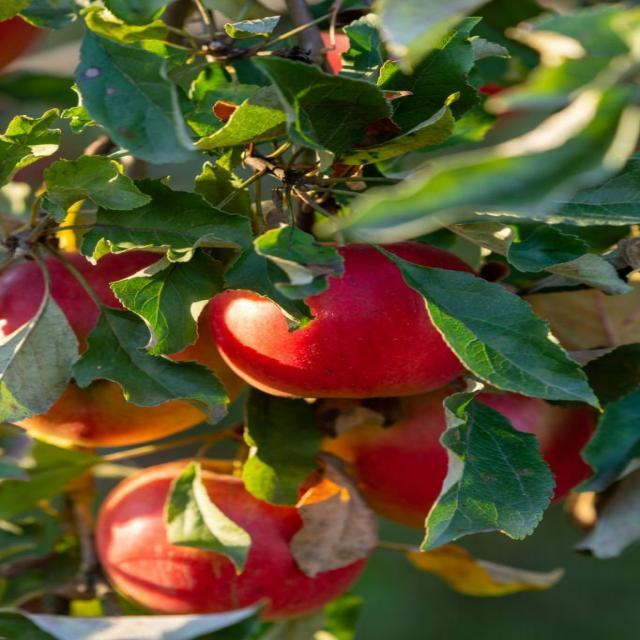Red Apple: (1, 258, 248, 438), (325, 380, 585, 541), (96, 460, 359, 616), (221, 237, 474, 398)
